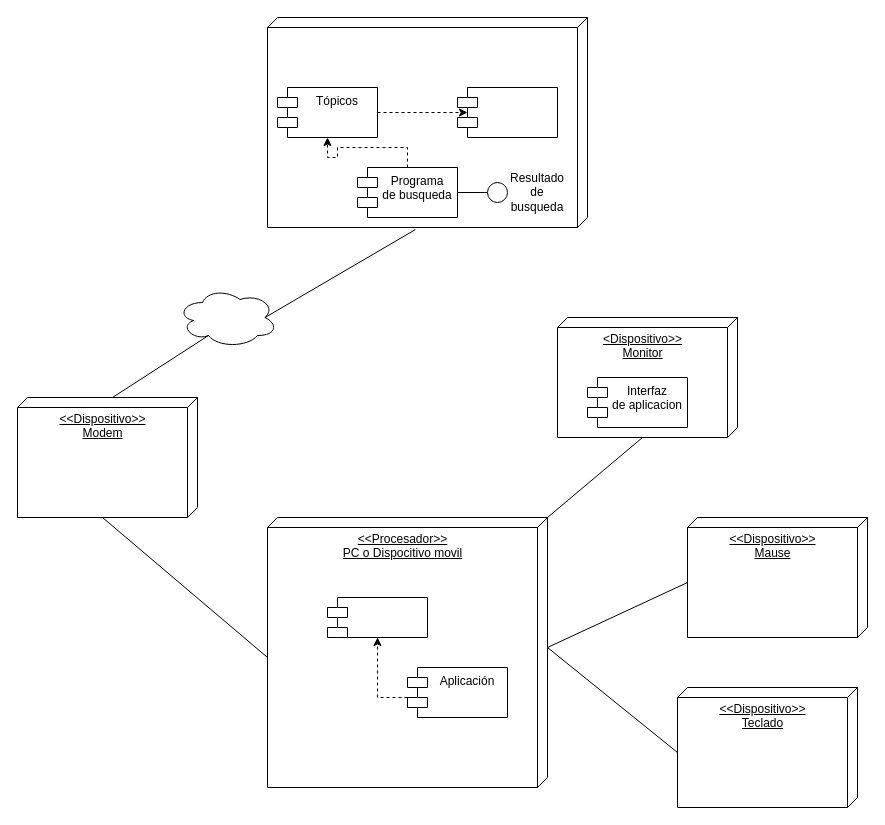
Image size: 885x825. Some labels were removed from this diagram. The box of each missing label's shape, as (x1, y1, x2, y2) in pixels:
<<Procesador>> Servidor: (266, 16, 588, 228)
Anexos: (456, 86, 558, 138)
Internet: (176, 286, 278, 348)
Windows 10: (326, 596, 428, 638)
